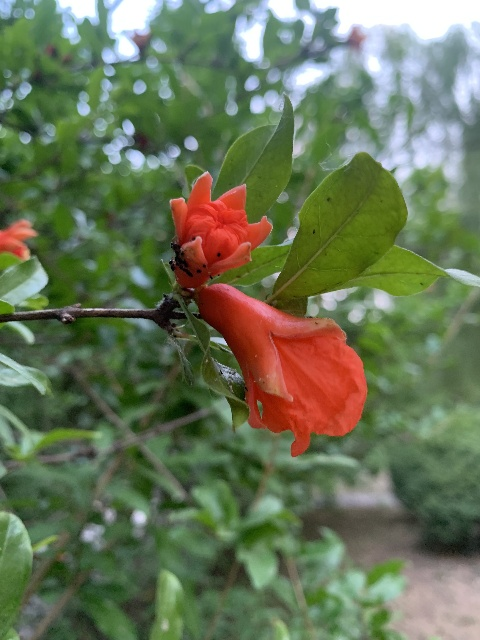flower: (195, 282, 367, 456), (169, 172, 272, 289), (0, 220, 38, 262)
